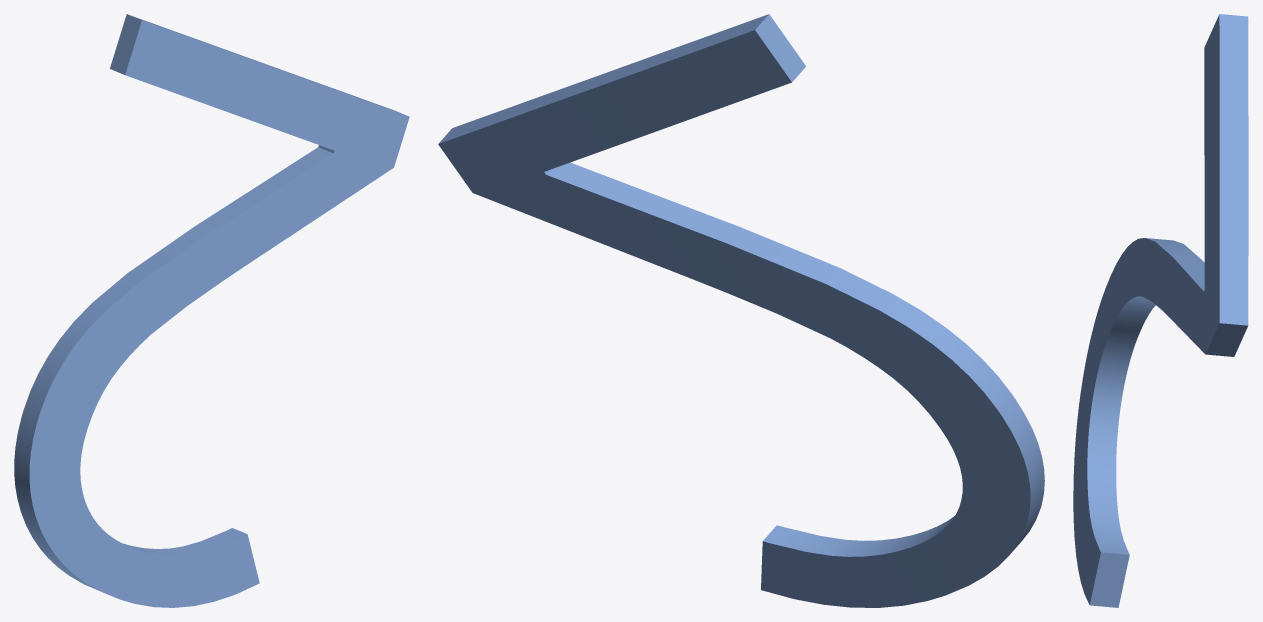
File: Sub_2_Cell_2_3_New_Number_2.gltf
3 renders of one model, left to right at view 1: azimuth 30°, elevation 25°; view 2: azimuth 150°, elevation 25°; view 3: azimuth 270°, elevation 25°, orthographic. The views are drawn at different scales.
Parts seen in each view (by area): view 1: Part 137; view 2: Part 137; view 3: Part 137.
Part boxes in pixels (x1=…): Part 137: x1=14, y1=14, x2=409, y2=607; Part 137: x1=438, y1=14, x2=1044, y2=607; Part 137: x1=1073, y1=14, x2=1248, y2=607.
Size of the model in its own units: 0.00473 by 0.00551 by 0.00154.
